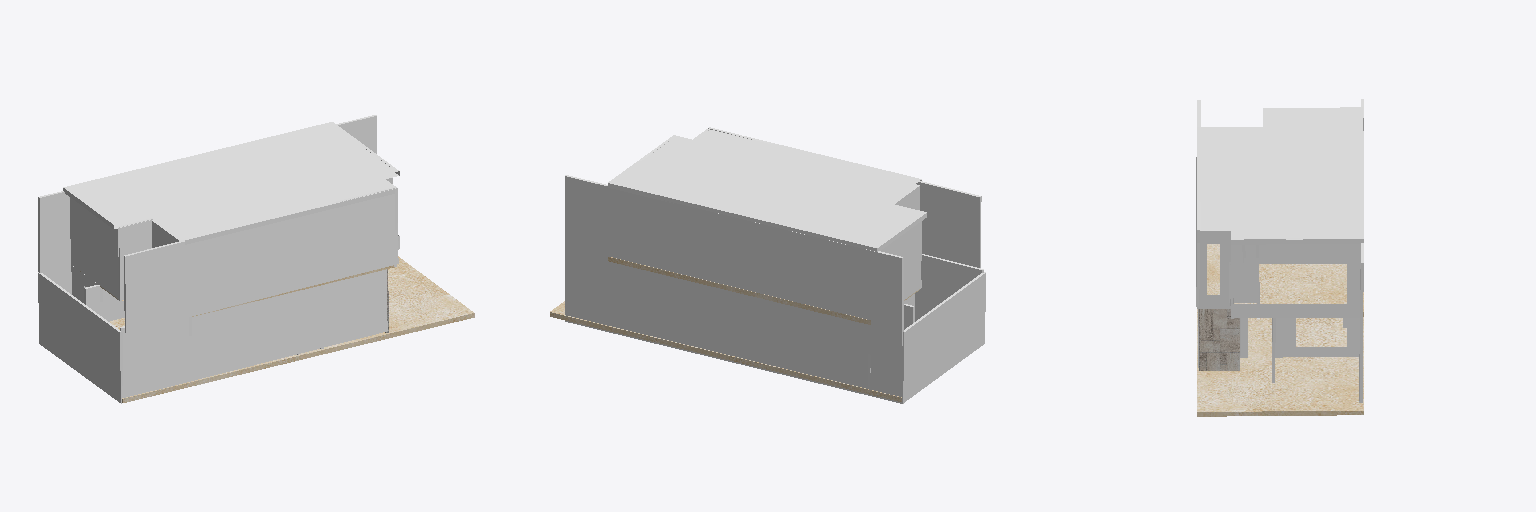
3 renders of one model, left to right at view 1: azimuth 30°, elevation 25°; view 2: azimuth 150°, elevation 25°; view 3: azimuth 270°, elevation 25°, orthographic.
Parts seen in each view (by area): view 1: polySurface105; view 2: polySurface105; view 3: polySurface105.
Part boxes in pixels (left/top/right/bottom): polySurface105: left=38, top=115, right=474, bottom=403; polySurface105: left=550, top=127, right=985, bottom=403; polySurface105: left=1196, top=99, right=1363, bottom=416.
Bounding box in the file's own units: 58.83 × 23.79 × 24.11.
6 materials, 5 textured.